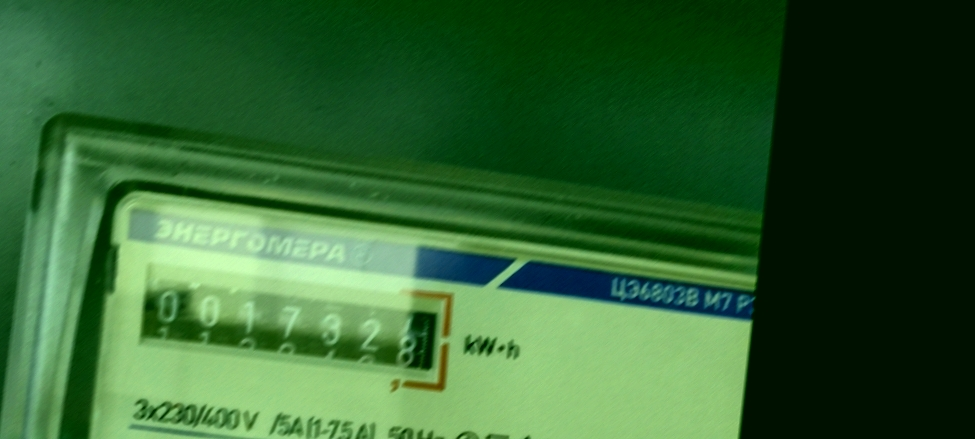0: (156, 286, 182, 325), (198, 293, 222, 328)
1: (240, 297, 259, 335)
2: (357, 316, 382, 354)
3: (318, 310, 345, 348)
7: (276, 302, 304, 341)
8: (394, 332, 418, 368)
screen: (128, 259, 459, 395)
